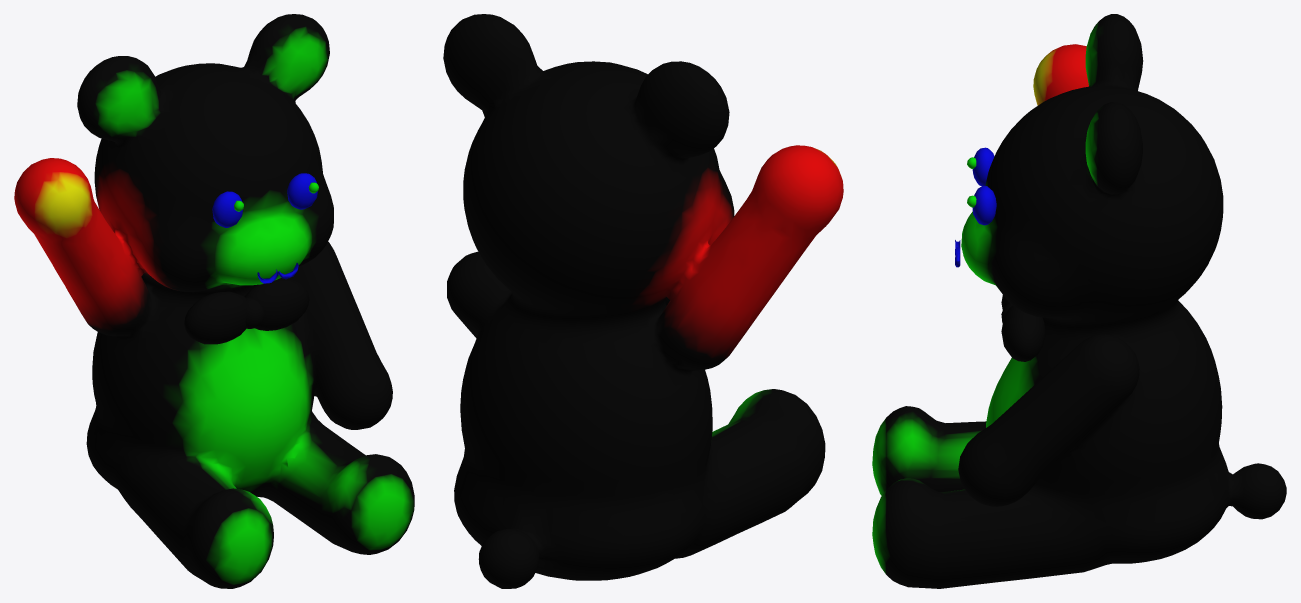
The model's file is bear_wave.glb.
The picture shows the model from 3 angles, left to right: view 1: azimuth 30°, elevation 25°; view 2: azimuth 150°, elevation 25°; view 3: azimuth 270°, elevation 25°; orthographic projection. The views are drawn at different scales.
Parts seen in each view (by area): view 1: bear_wave; view 2: bear_wave; view 3: bear_wave.
Boxes of the visible parts, x1=… form: bear_wave: x1=14, y1=14, x2=414, y2=588; bear_wave: x1=443, y1=14, x2=843, y2=588; bear_wave: x1=872, y1=14, x2=1286, y2=588.
Bounding box in the file's own units: 0.7543 × 1.01 × 0.7759.
